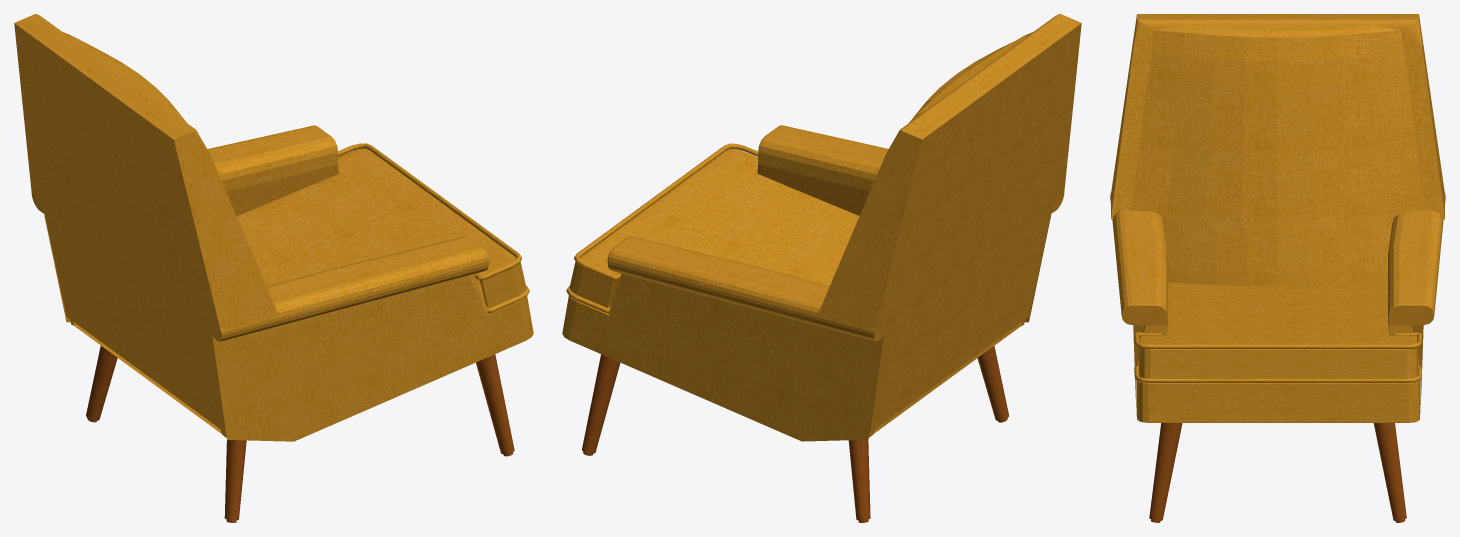
Rendered from lux2git.glb.
The picture shows the model from 3 angles, left to right: view 1: azimuth 30°, elevation 25°; view 2: azimuth 150°, elevation 25°; view 3: azimuth 270°, elevation 25°; orthographic projection. The views are drawn at different scales.
Parts seen in each view (by area): view 1: Cylinder.005, Cylinder.001; view 2: Cylinder.005, Cylinder.001; view 3: Cylinder.005, Cylinder.001.
Boxes of the visible parts, bbox=[...] form: Cylinder.005: bbox=[14, 14, 533, 441]; Cylinder.001: bbox=[86, 346, 514, 522]; Cylinder.005: bbox=[562, 14, 1081, 441]; Cylinder.001: bbox=[582, 346, 1008, 522]; Cylinder.005: bbox=[1110, 14, 1445, 422]; Cylinder.001: bbox=[1149, 423, 1406, 522].
Bounding box in the file's own units: 1.31 × 1.41 × 1.18.
Materials: 2 (2 with a texture image).
